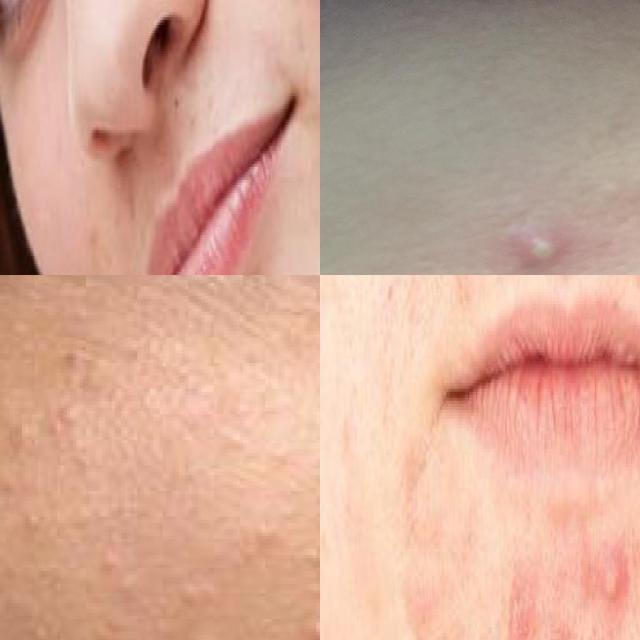comedone: (0, 388, 102, 457), (89, 539, 151, 602), (290, 596, 320, 640)
